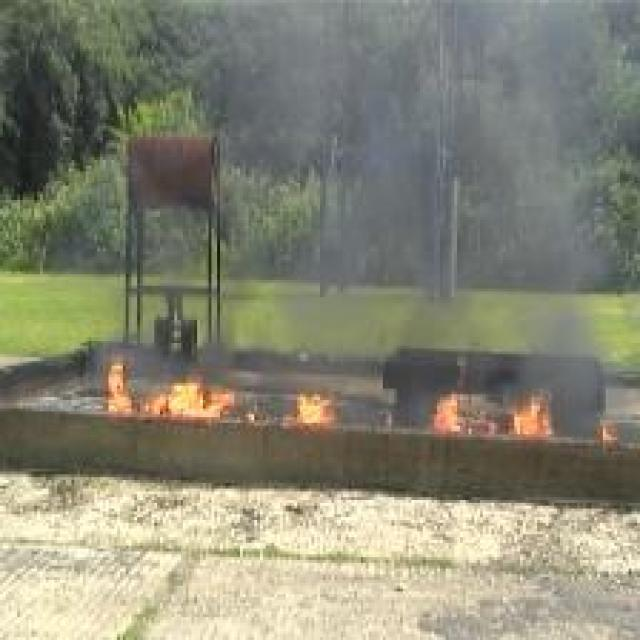Fire: (109, 358, 238, 422), (436, 392, 553, 434), (296, 391, 333, 426)
